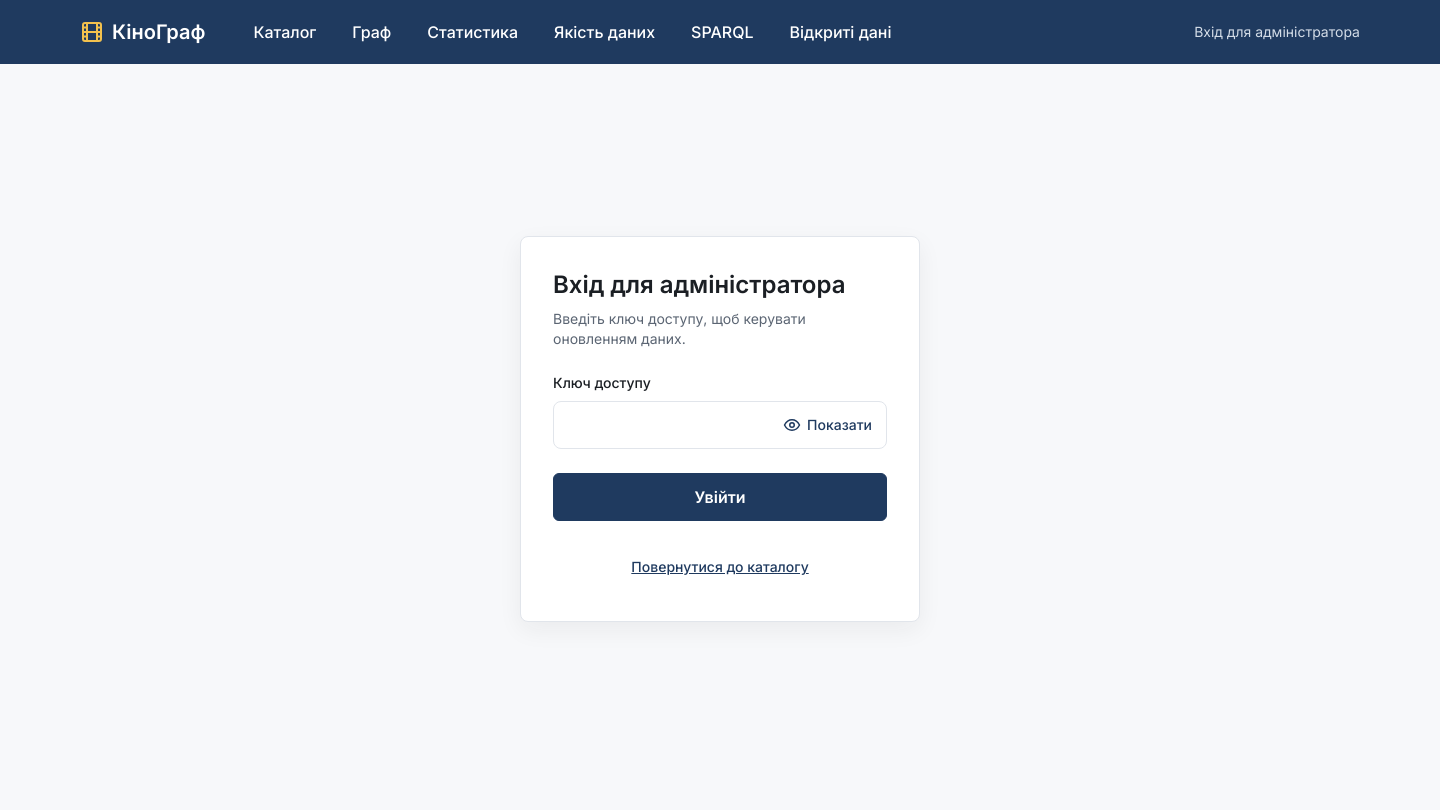
вхід адміністратора › вимагає ключ і показує недоступність сервера
Step 1. Click the button "Увійти" → point(720, 497), box x1=553 y1=473 x2=887 y2=521
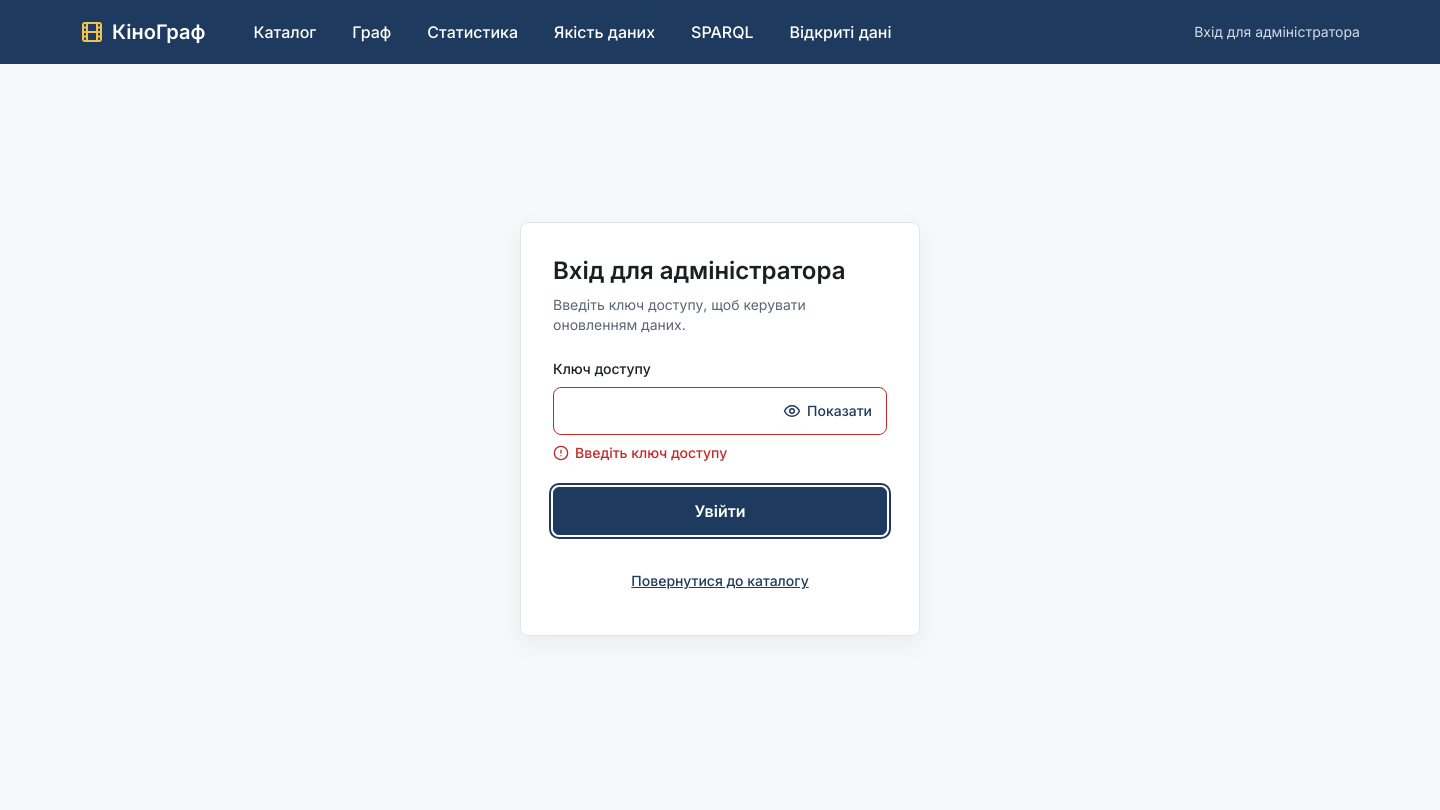
Expected: the message reads "Введіть ключ доступу", x1=575 y1=444 x2=727 y2=461
Step 2. Type "secret" into the password field labelled "Ключ доступу" → point(670, 411), box x1=566 y1=389 x2=773 y2=433
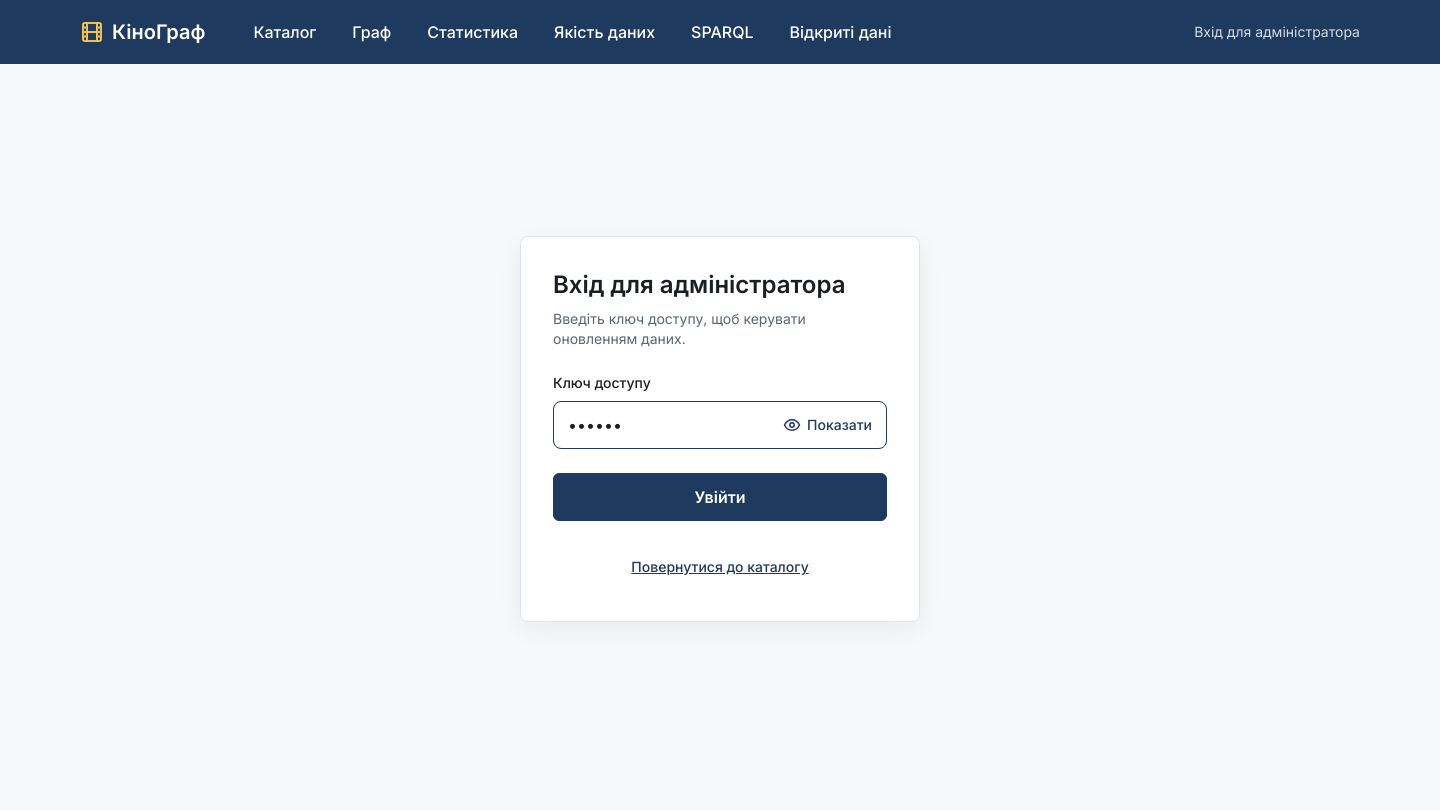
Step 3. Click the button "Увійти" → point(720, 497), box x1=553 y1=473 x2=887 y2=521
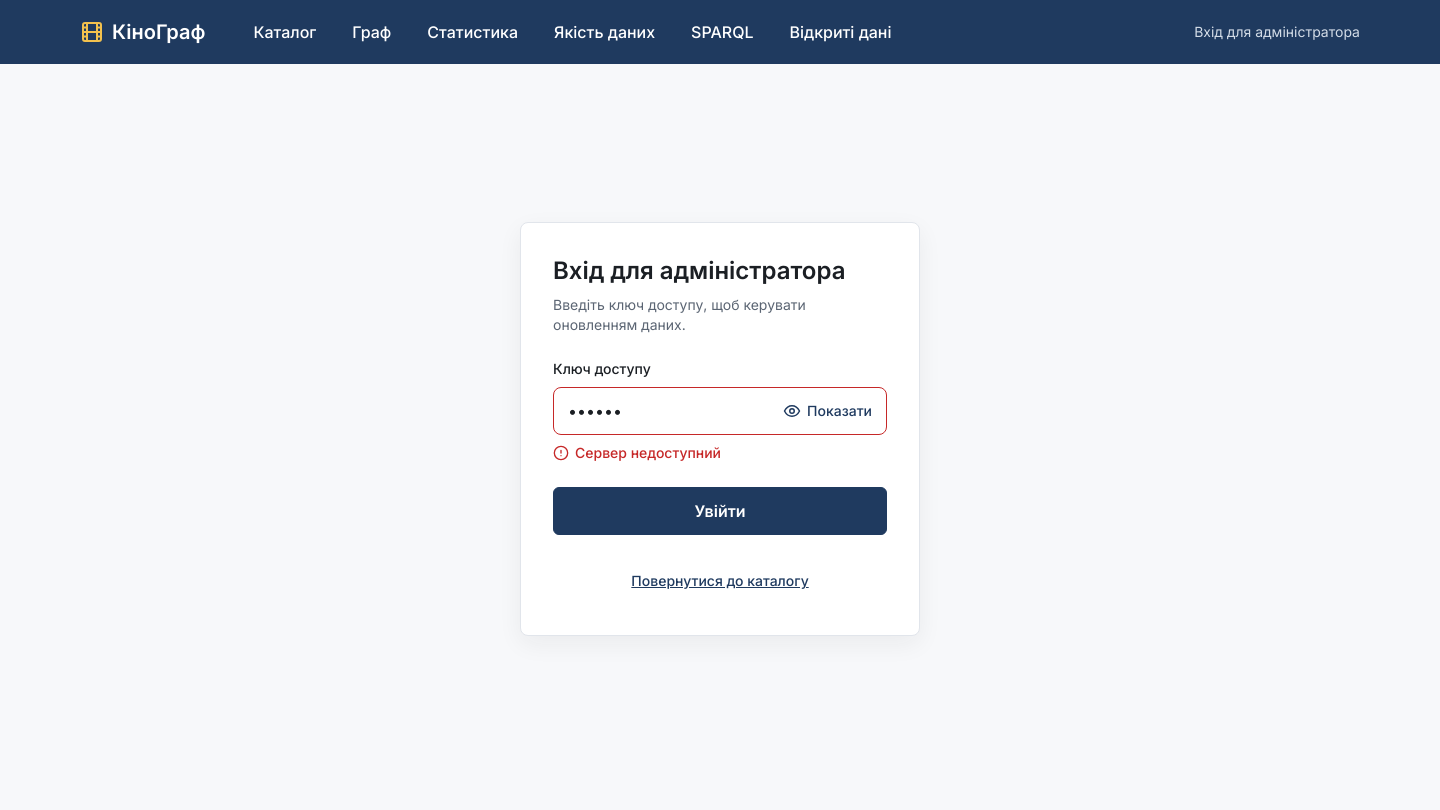
Expected: the message reads "Сервер недоступний", x1=575 y1=444 x2=721 y2=461
